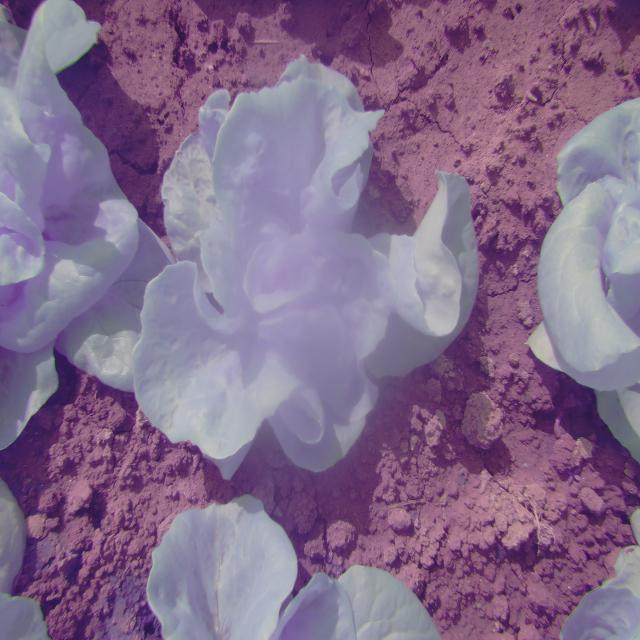vege: (138, 55, 480, 478)
